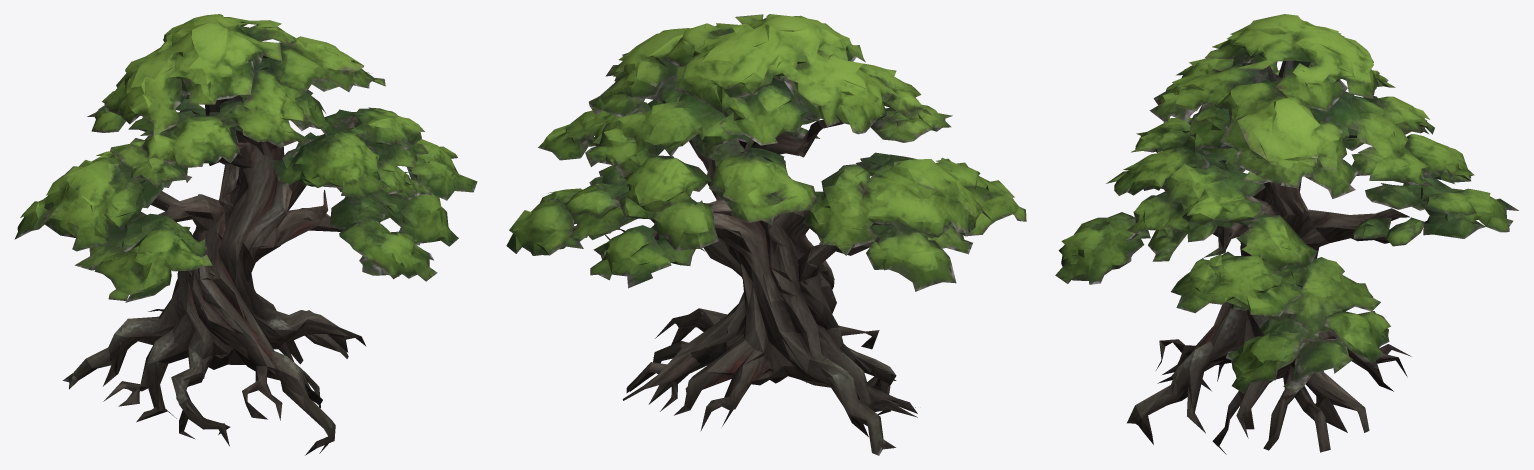
Rendered from ancient_tree.glb.
3 renders of one model, left to right at view 1: azimuth 30°, elevation 25°; view 2: azimuth 150°, elevation 25°; view 3: azimuth 270°, elevation 25°, orthographic. The views are drawn at different scales.
Visible parts, largest first — view 1: geom0; view 2: geom0; view 3: geom0.
Part boxes in pixels (x1,y1,x2,y2): geom0: [14, 14, 477, 455]; geom0: [506, 14, 1026, 455]; geom0: [1055, 14, 1518, 454].
Bounding box in the file's own units: 16 × 14.63 × 15.23.
1 material, 1 textured.
